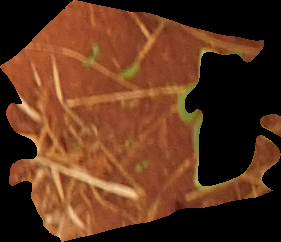soil: (3, 1, 279, 240)
